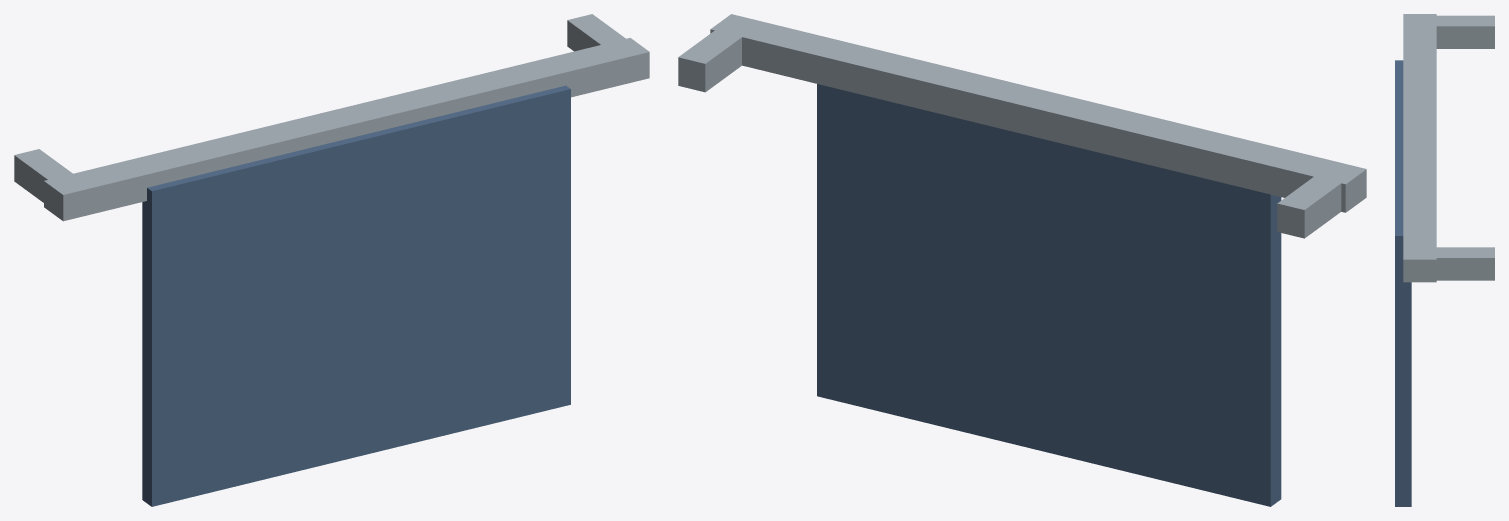
File: GH_TowelRail_01.glb
3 renders of one model, left to right at view 1: azimuth 30°, elevation 25°; view 2: azimuth 150°, elevation 25°; view 3: azimuth 270°, elevation 25°, orthographic. The views are drawn at different scales.
Parts seen in each view (by area): view 1: GH_TowelRail_01; view 2: GH_TowelRail_01; view 3: GH_TowelRail_01.
Boxes of the visible parts, x1,y1,x2,y2 form: GH_TowelRail_01: [14, 14, 649, 506]; GH_TowelRail_01: [678, 14, 1366, 506]; GH_TowelRail_01: [1395, 14, 1494, 506].
Bounding box in the file's own units: 0.7 × 0.375 × 0.12.
1 material, 1 textured.
